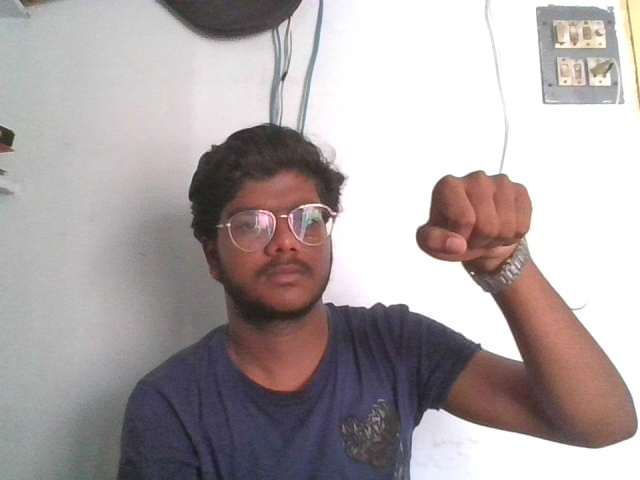Yes: (416, 168, 534, 271)
